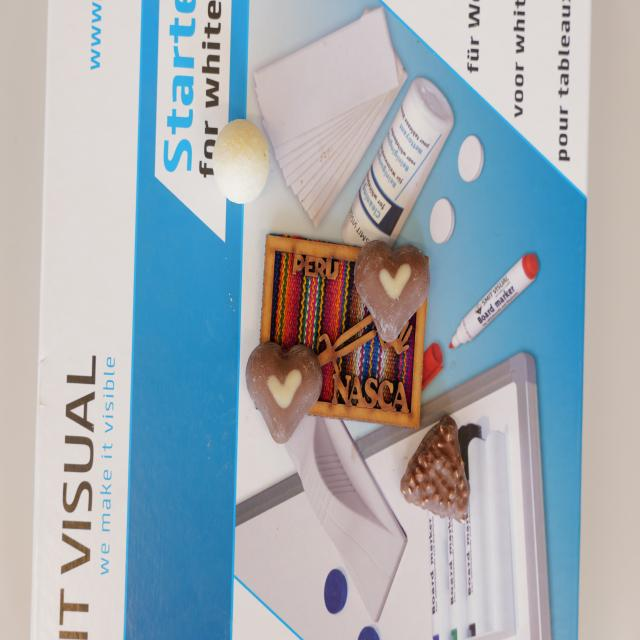Comtesse: (212, 116, 271, 208)
Passion_au_lait: (244, 338, 321, 454), (352, 243, 433, 348)
Triangolo: (401, 414, 477, 524)
